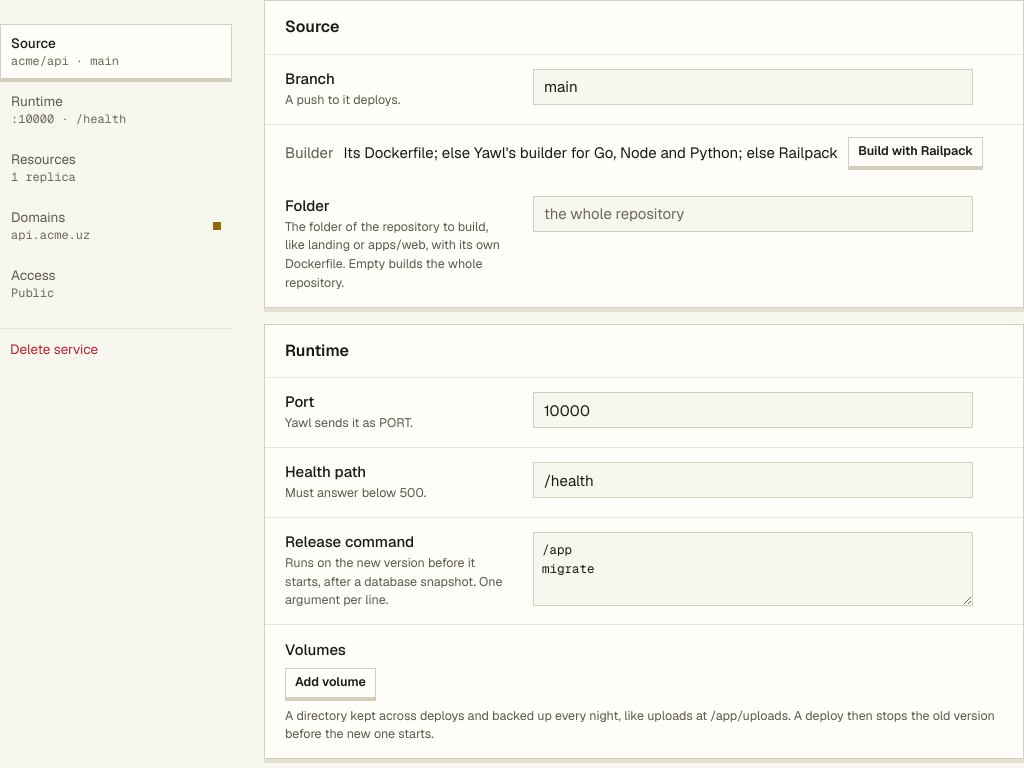
Test: ServiceSettings › builds a folder of the repository when one is named
The width and height of the screenshot is (1024, 768).
Type " landing " into the field labelled "Folder" at (753, 214), box [533,196,973,232]
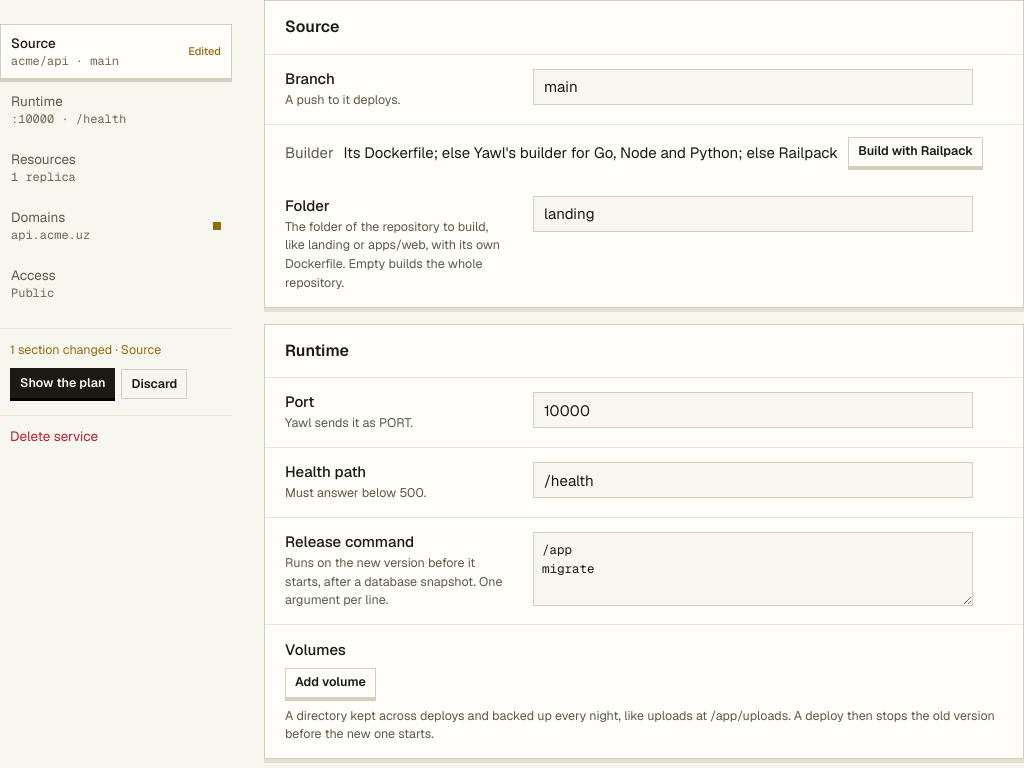
Click the button "Show the plan" at (63, 383), box [10,368,116,398]
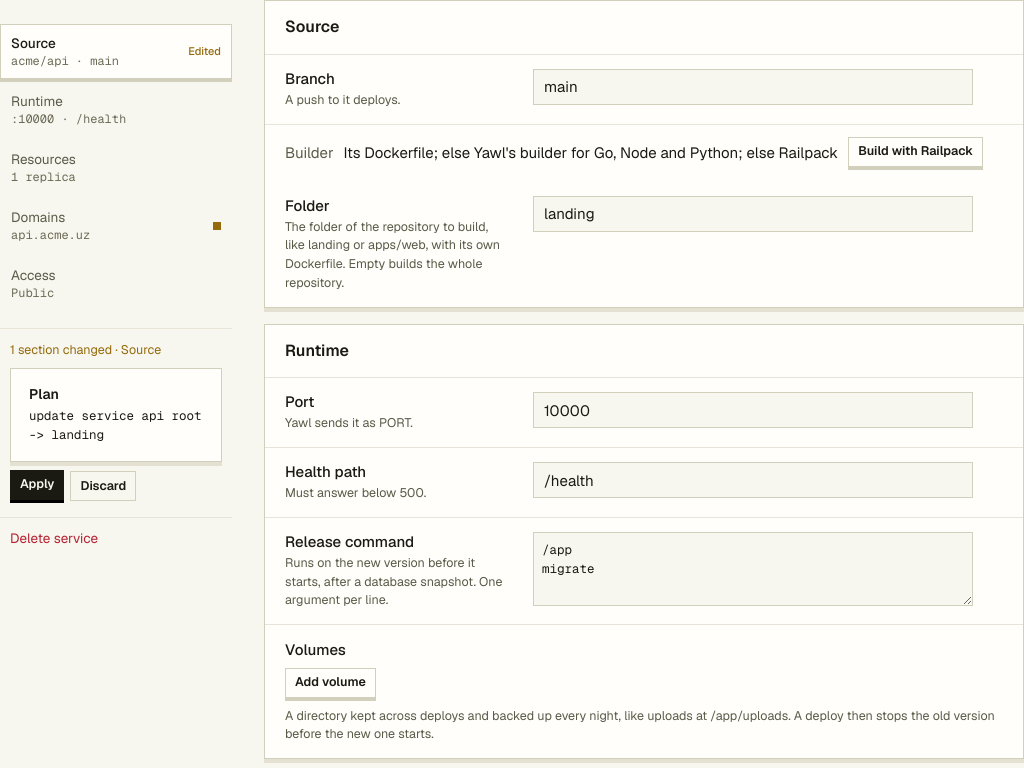
Expected: the text "update service api root -> landing" is shown, [29,407,203,445]
Clear the field labelled "Folder" at (753, 214), box [533,196,973,232]
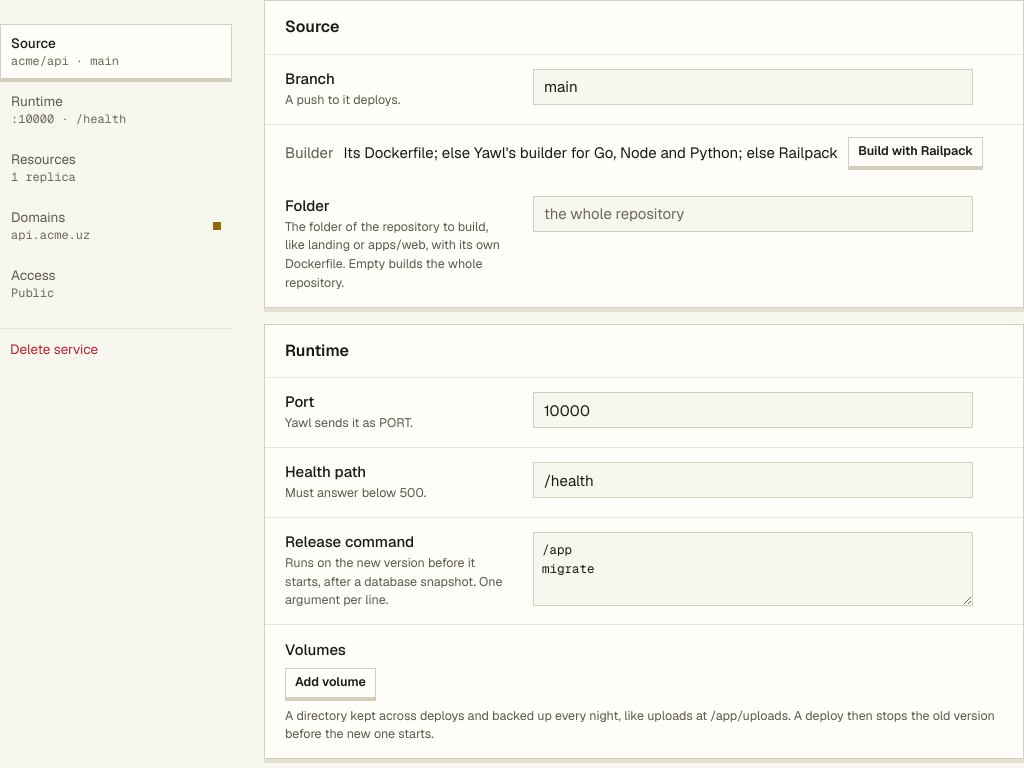
Expected: the button "Discard" is gone
